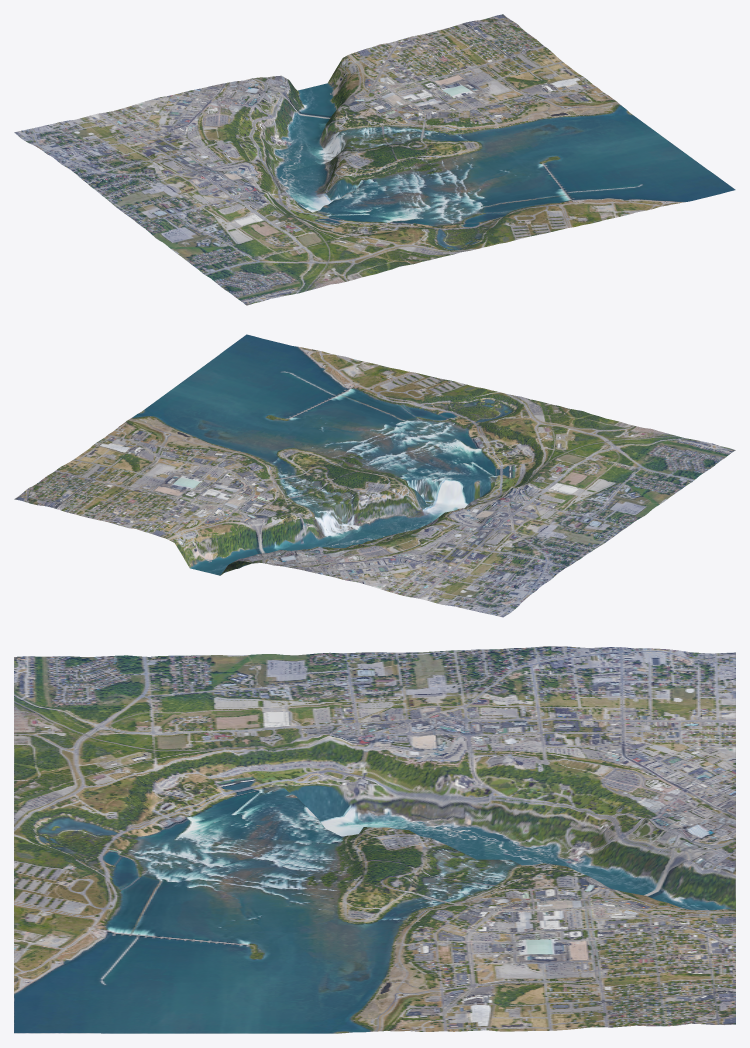
The model's file is niagara_falls.glb.
3 views of the same model, one above another, from view 1: azimuth 30°, elevation 25°; view 2: azimuth 150°, elevation 25°; view 3: azimuth 270°, elevation 25° (orthographic). The views are drawn at different scales.
Parts seen in each view (by area): view 1: Object_2; view 2: Object_2; view 3: Object_2.
Boxes of the visible parts, left/top/right/bottom form: Object_2: left=14, top=14, right=735, bottom=305; Object_2: left=14, top=334, right=735, bottom=617; Object_2: left=14, top=646, right=735, bottom=1033.
Size of the model in its own units: 5198 by 332 by 4280.
Materials: 1 (1 with a texture image).
